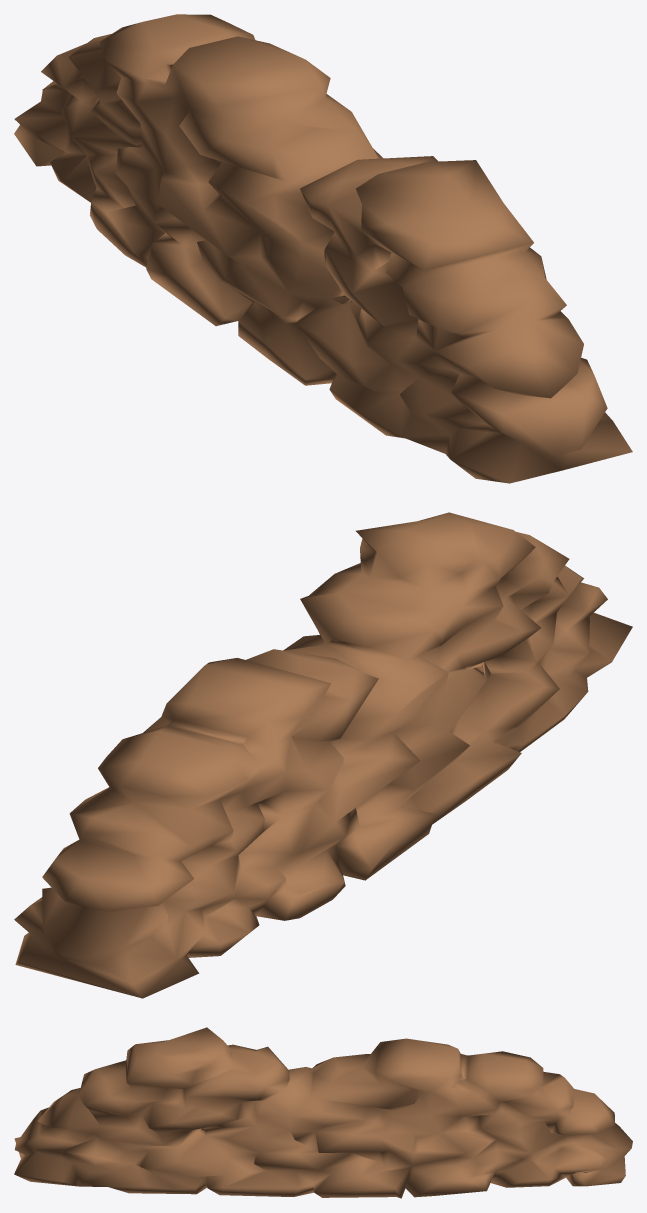
The model's file is sandbag.fbx.
The picture shows the model from 3 angles, top to bottom: view 1: azimuth 30°, elevation 25°; view 2: azimuth 150°, elevation 25°; view 3: azimuth 270°, elevation 25°; orthographic projection. The views are drawn at different scales.
Parts seen in each view (by area): view 1: tripo_node_750169df-cda7-4476-bd3b-cb1c487ba57a; view 2: tripo_node_750169df-cda7-4476-bd3b-cb1c487ba57a; view 3: tripo_node_750169df-cda7-4476-bd3b-cb1c487ba57a.
Boxes of the visible parts, left/top/right/bottom form: tripo_node_750169df-cda7-4476-bd3b-cb1c487ba57a: left=14, top=14, right=632, bottom=483; tripo_node_750169df-cda7-4476-bd3b-cb1c487ba57a: left=14, top=512, right=632, bottom=998; tripo_node_750169df-cda7-4476-bd3b-cb1c487ba57a: left=14, top=1027, right=632, bottom=1198.
Size of the model in its own units: 26.26 by 21.95 by 99.98.
